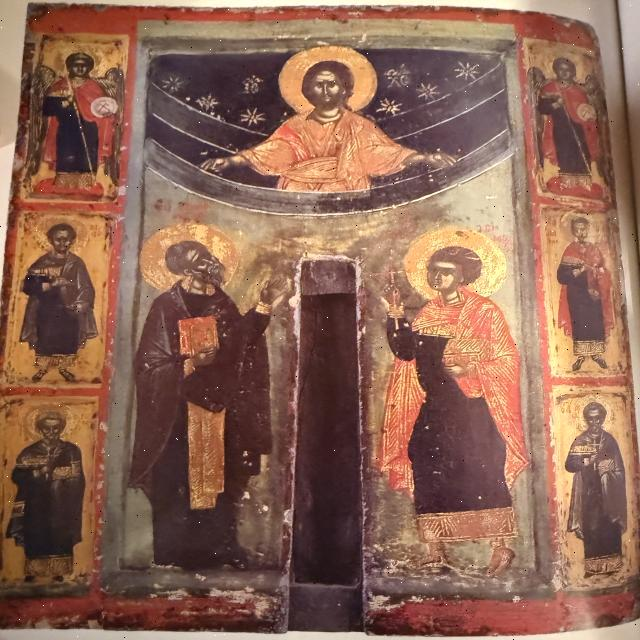angel: (24, 37, 128, 191), (521, 45, 617, 209)
aura: (133, 223, 243, 293), (279, 45, 381, 115), (407, 228, 506, 300), (29, 213, 96, 255), (24, 403, 86, 441), (570, 397, 618, 435), (558, 212, 608, 246)
book: (173, 316, 229, 354)
christ_pantocrator: (147, 43, 509, 197)
saint: (359, 220, 527, 576), (128, 219, 285, 560), (11, 210, 113, 384), (552, 388, 638, 584), (531, 207, 629, 373), (9, 402, 97, 583)
shield: (87, 96, 119, 118), (579, 104, 601, 123)
wing: (26, 64, 60, 182), (581, 73, 615, 177), (99, 71, 129, 177), (526, 66, 548, 168)
